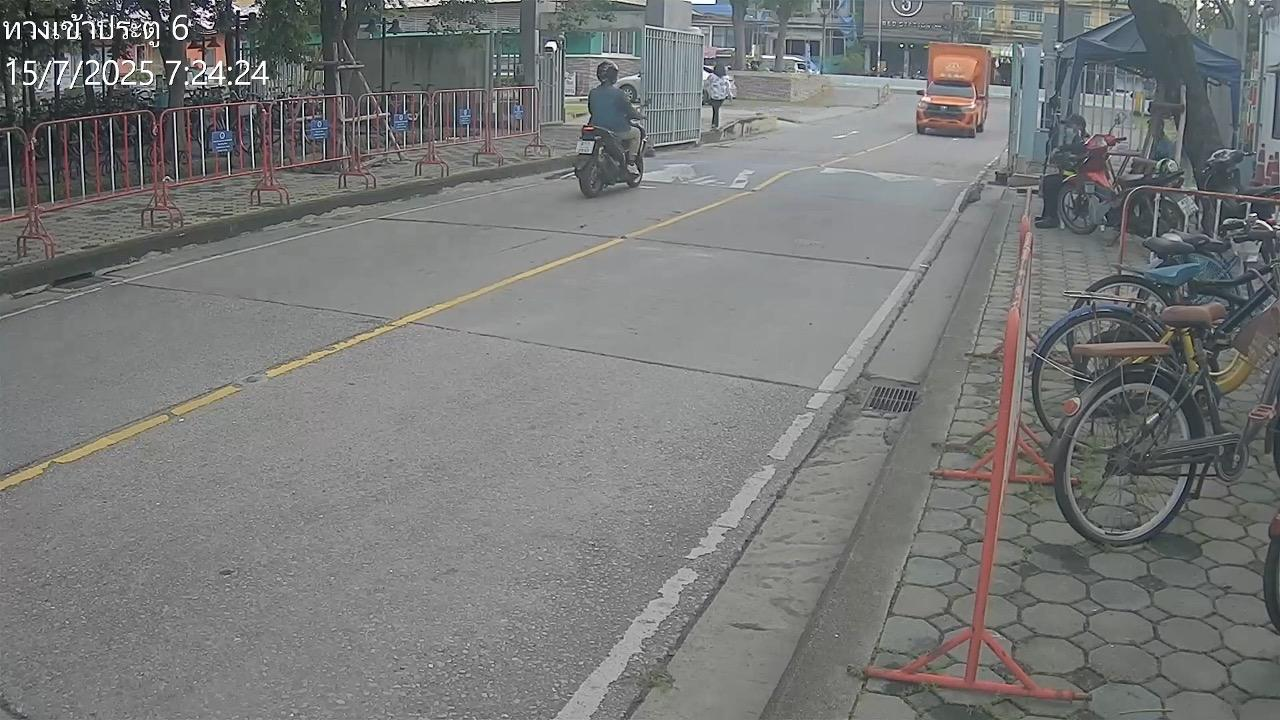With-Helmet: (596, 60, 619, 85)
